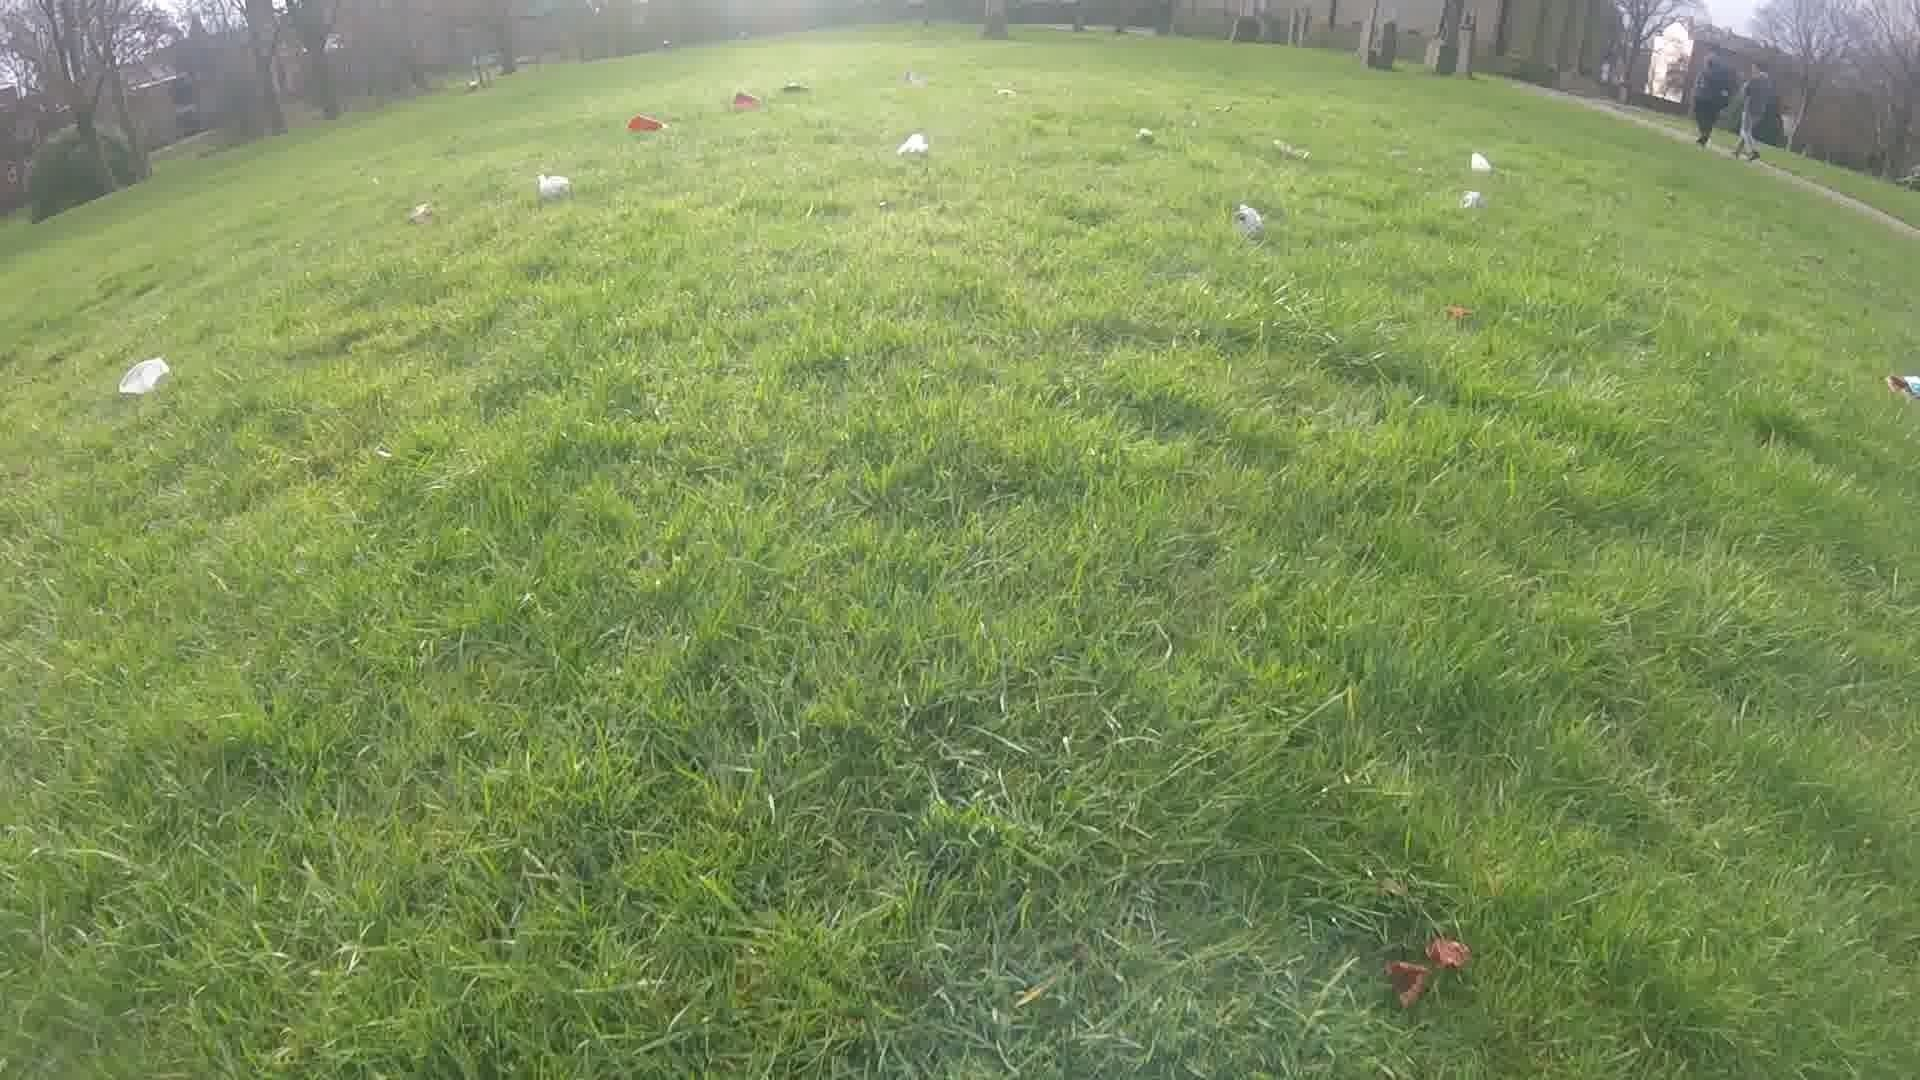litter: (125, 357, 171, 392), (621, 113, 669, 136), (1236, 208, 1263, 244), (1879, 369, 1920, 393), (535, 179, 574, 203), (1275, 138, 1309, 164), (897, 135, 931, 158), (1469, 152, 1495, 178), (724, 88, 760, 105), (411, 204, 433, 229), (1465, 191, 1486, 214), (771, 80, 815, 91), (897, 71, 922, 87), (1131, 127, 1155, 142), (996, 88, 1021, 96)
